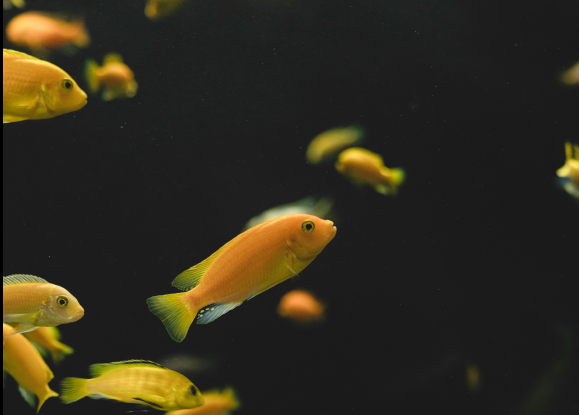fishSmall: (146, 213, 338, 344), (60, 358, 204, 412), (1, 47, 88, 125), (2, 273, 84, 340), (2, 322, 60, 414), (24, 321, 74, 363)
